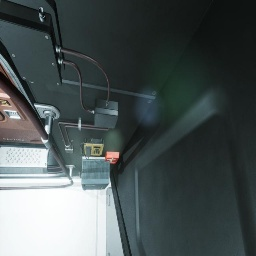EmergencyPhone ,: (80, 137, 104, 160)
FireAlarm ,: (104, 152, 120, 164)
